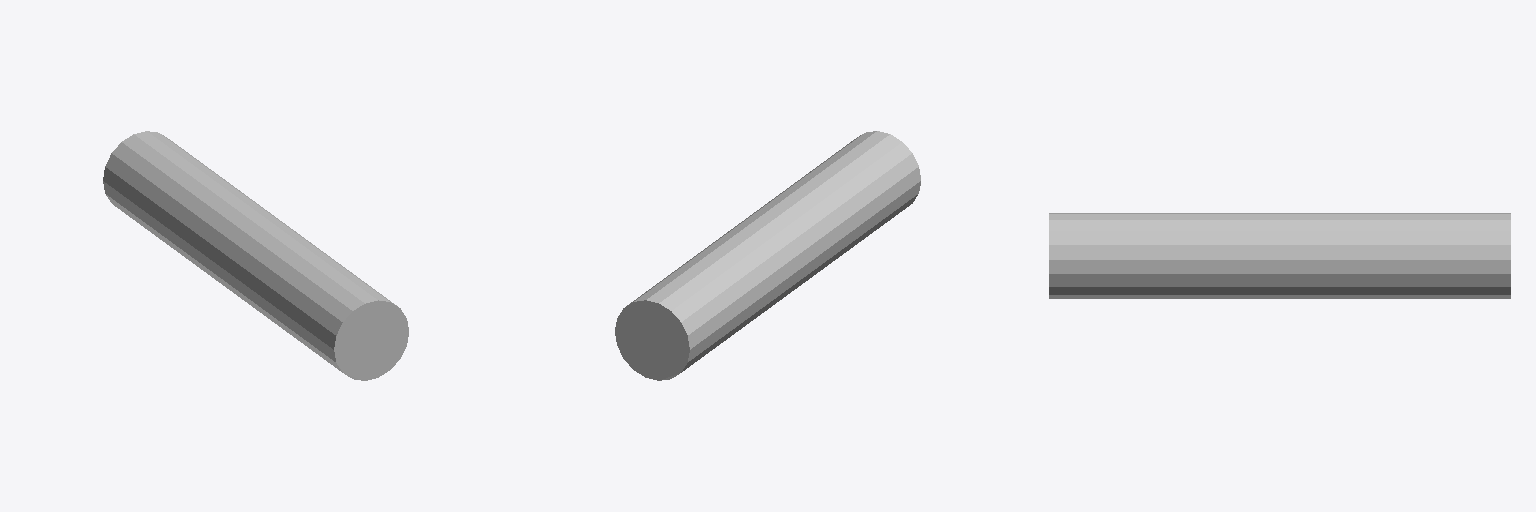
3 renders of one model, left to right at view 1: azimuth 30°, elevation 25°; view 2: azimuth 150°, elevation 25°; view 3: azimuth 270°, elevation 25°, orthographic.
Parts seen in each view (by area): view 1: Supporto_02; view 2: Supporto_02; view 3: Supporto_02.
Part boxes in pixels (x1,y1,x2,y2): Supporto_02: (103,131,408,380); Supporto_02: (615,131,920,380); Supporto_02: (1049,213,1510,298).
Bounding box in the file's own units: 0.7482 × 0.7365 × 3.98.